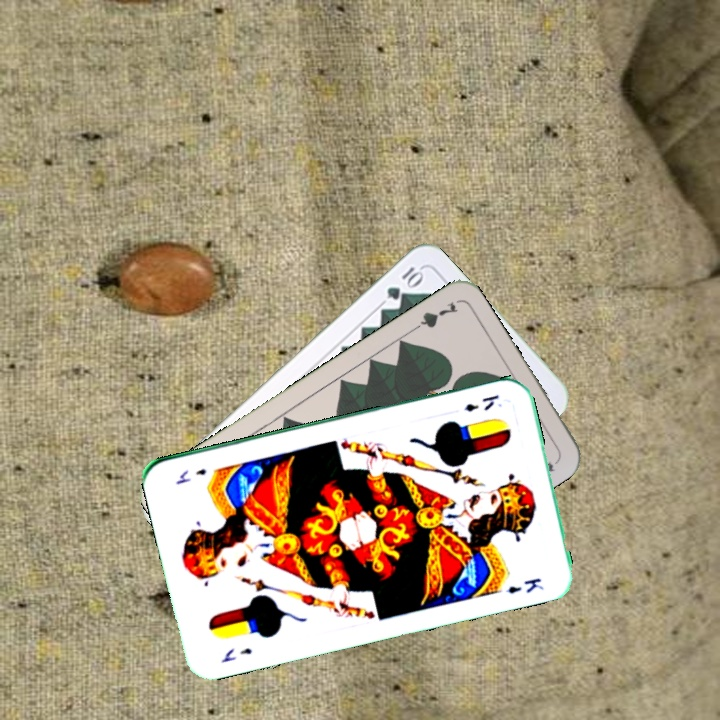EK: (459, 390, 501, 415), (217, 644, 255, 665)
G10: (382, 262, 426, 303)
G7: (405, 298, 461, 336)
